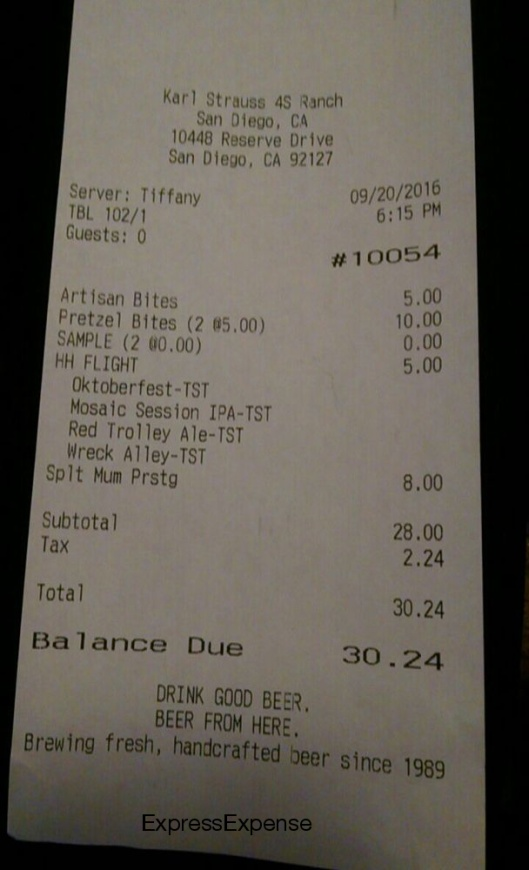Additional details: (11, 679, 473, 787)
Purchase summary: (24, 166, 475, 684)
Receipt: (16, 1, 490, 836)
Shop details: (147, 80, 371, 178)
